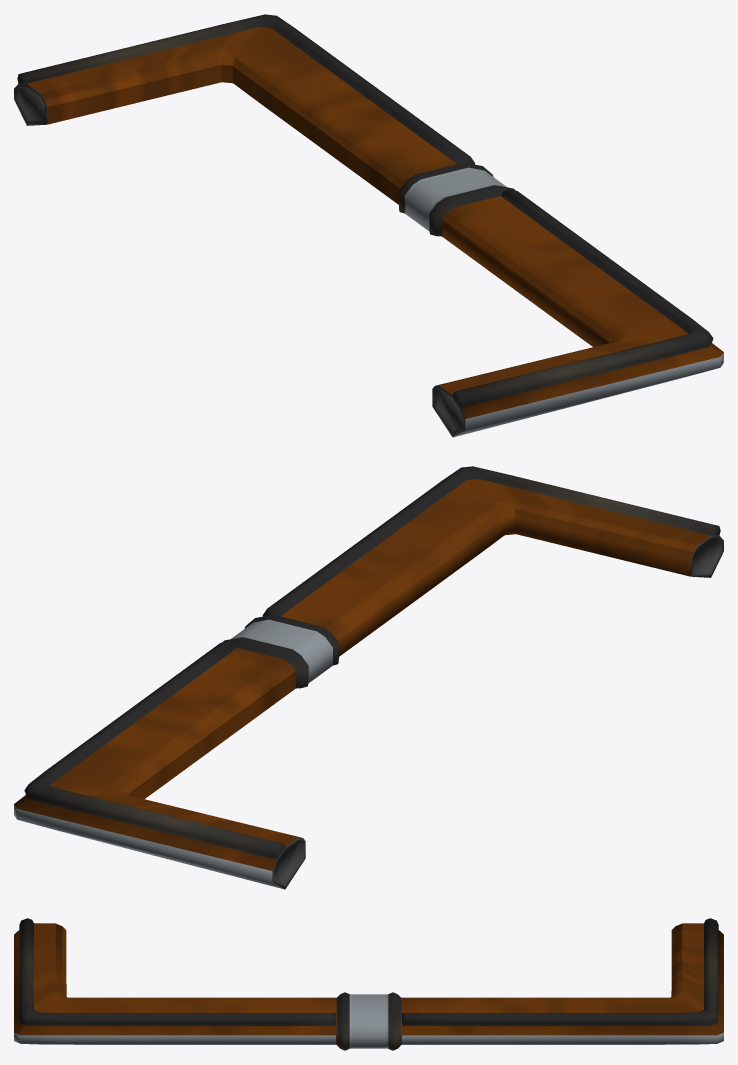
File: OS_HA_Flap_2_A.obj
3 renders of one model, top to bottom at view 1: azimuth 30°, elevation 25°; view 2: azimuth 150°, elevation 25°; view 3: azimuth 270°, elevation 25°, orthographic. The views are drawn at different scales.
Visible parts, largest first — view 1: Cube_Cube.003; view 2: Cube_Cube.003; view 3: Cube_Cube.003.
Part boxes in pixels (x1,y1,x2,y2): Cube_Cube.003: (14,14,723,437); Cube_Cube.003: (14,466,723,889); Cube_Cube.003: (14,918,723,1050).
Size of the model in its own units: 0.9332 by 0.1745 by 2.72.
